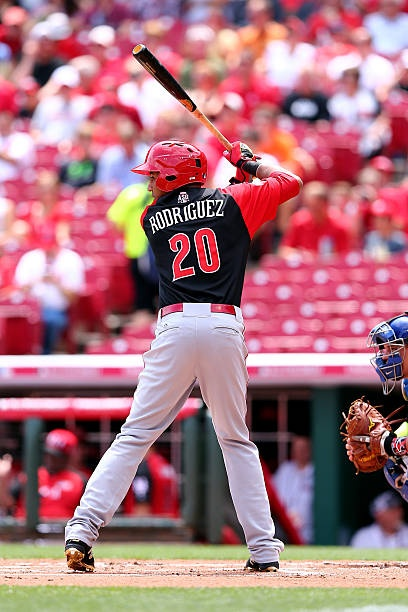bita: (131, 45, 247, 161)
